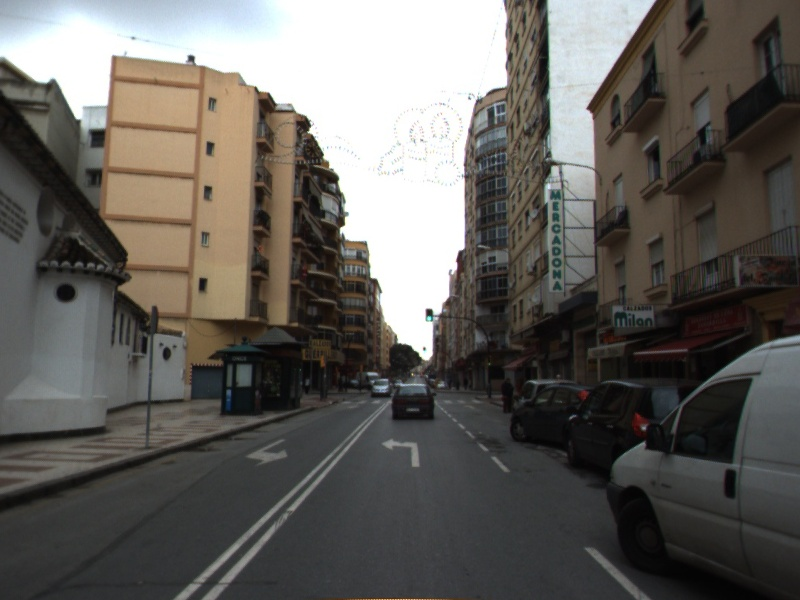LEFT: (380, 437, 421, 468)
